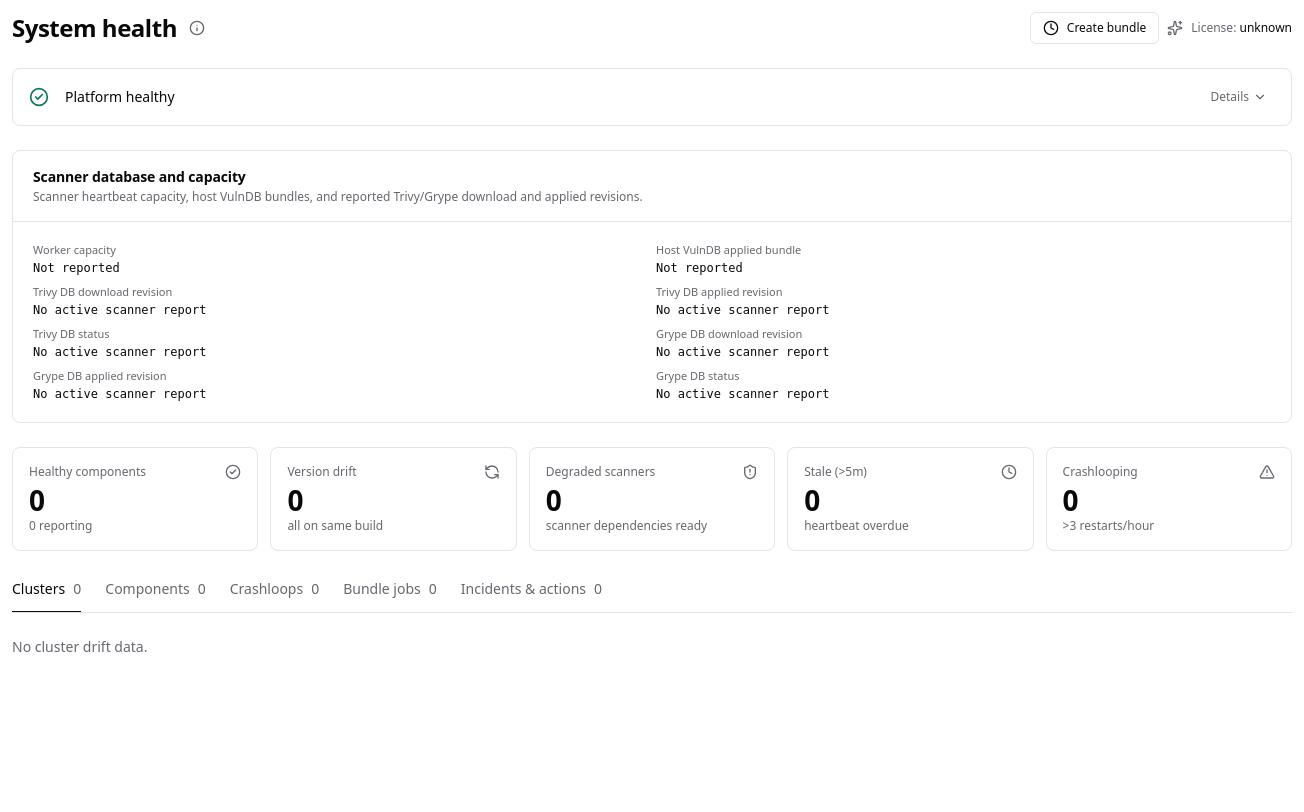
queues a job without downloading and opens the job history
Click the button "Create bundle".
click(1095, 28)  # box [1030,12,1159,44]
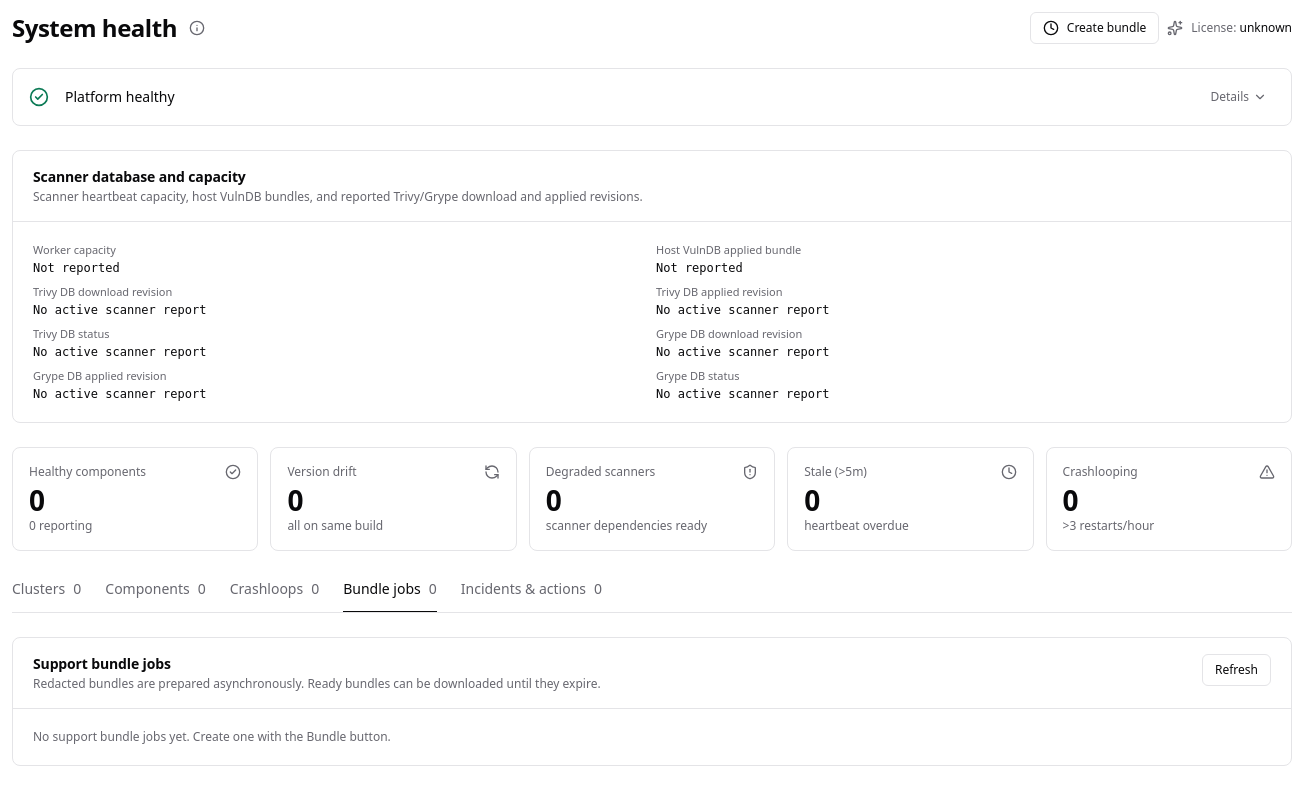
Result: the element with test id "system-health-bundle-jobs" is shown at [33,728,391,745]
